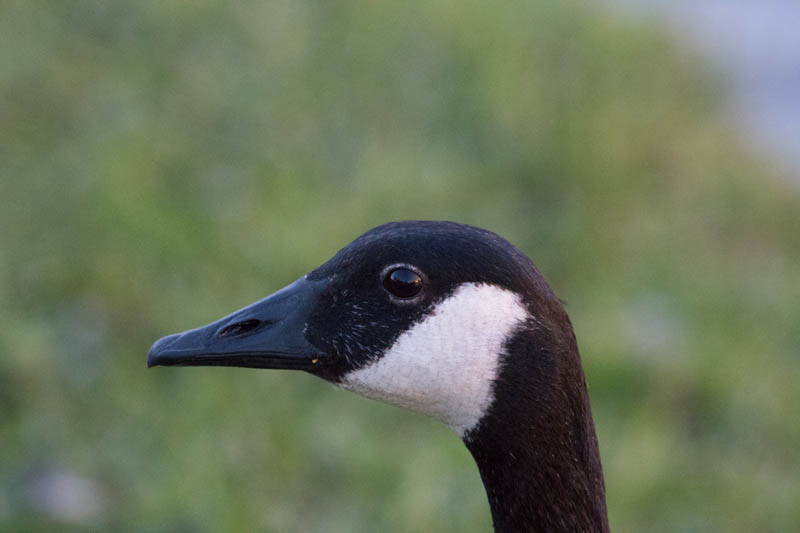goose-head: (147, 221, 578, 443)
